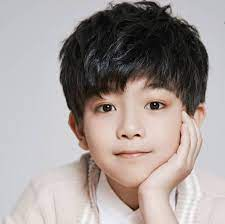person: (58, 1, 202, 188)
